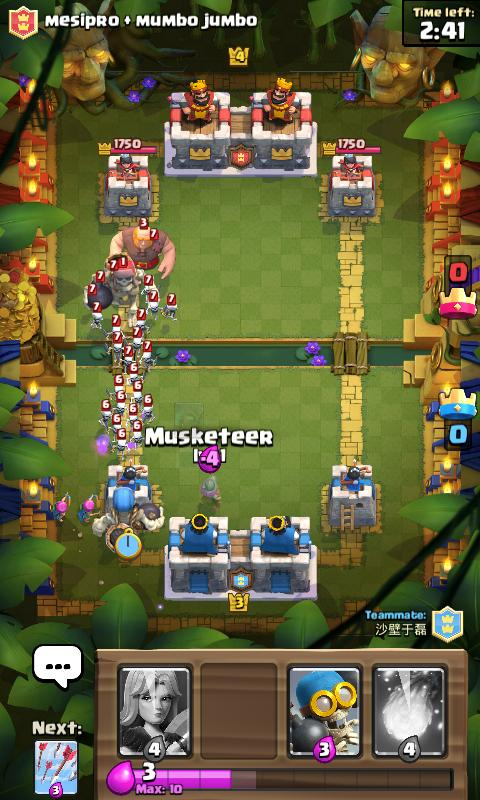ally_archer: (75, 493, 100, 524), (49, 491, 72, 524)
ally_giant_skeleton: (89, 487, 166, 556)
enemy_giant: (102, 217, 175, 279)
enemy_giant_skeleton: (80, 251, 160, 313)
enemy_skeleton: (109, 427, 130, 461), (102, 330, 125, 357), (159, 292, 179, 322), (145, 287, 162, 318), (138, 339, 156, 367), (139, 273, 156, 302), (87, 301, 104, 330), (96, 399, 111, 431), (105, 373, 124, 396), (130, 420, 144, 449), (134, 307, 149, 332), (142, 392, 154, 423), (126, 402, 141, 426), (111, 389, 126, 413), (104, 314, 119, 338), (119, 345, 134, 368), (129, 379, 143, 403), (112, 411, 123, 438), (128, 324, 142, 344), (126, 362, 139, 383)
